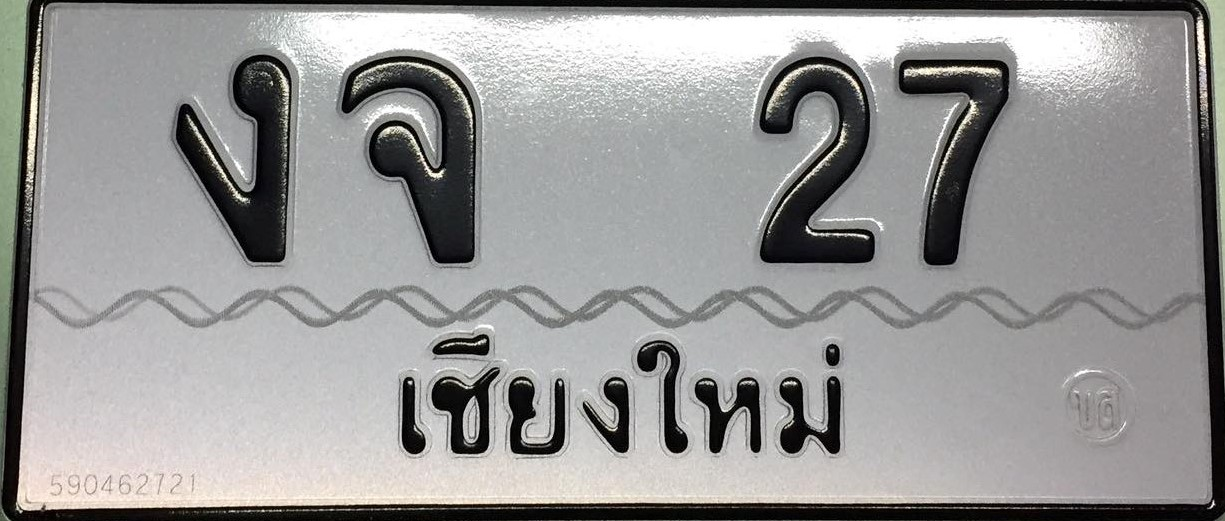txt05: (164, 47, 303, 271)
txt06: (329, 45, 488, 272)
